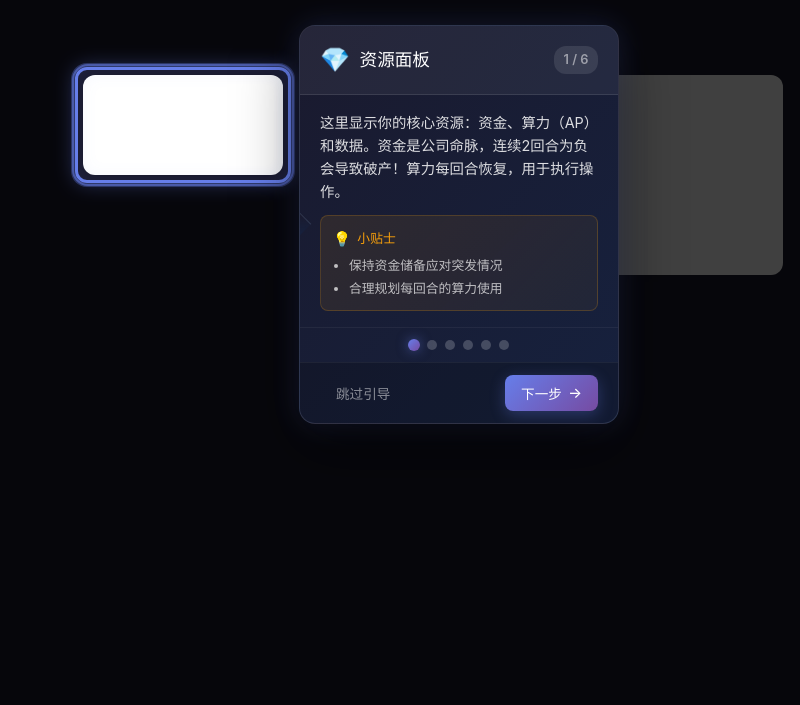
OnboardingGuide 组件单元测试 › 步骤推进功能 › 点击上一步应该回到上一个步骤
The width and height of the screenshot is (800, 705).
//  先推进到第二步
Click the button "下一步 →".
click(552, 393)  # box [505,375,598,411]
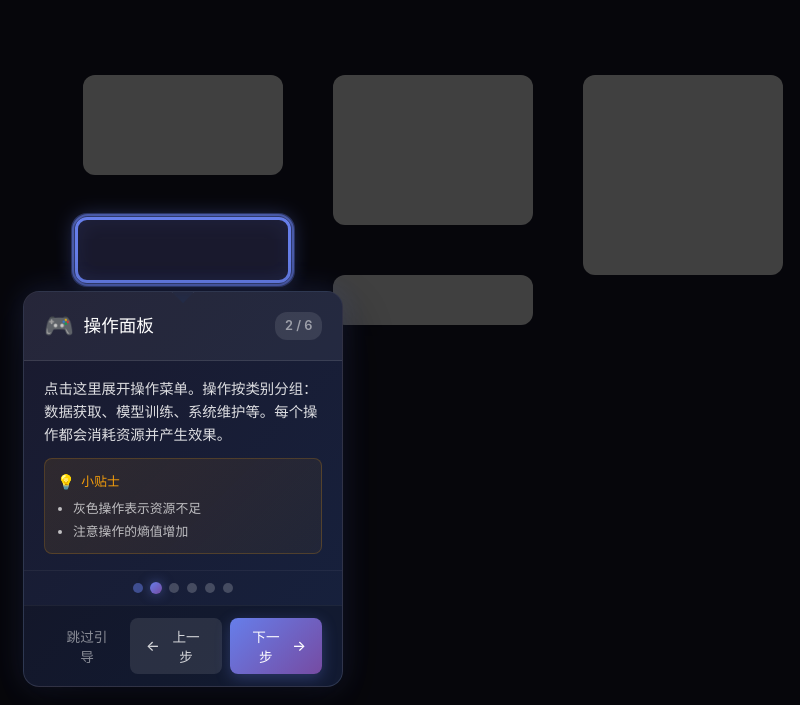
Expected: the heading "操作面板" is shown, [84,313,154,339]
Click the button "← 上一步".
click(176, 646)  # box [130,618,222,674]
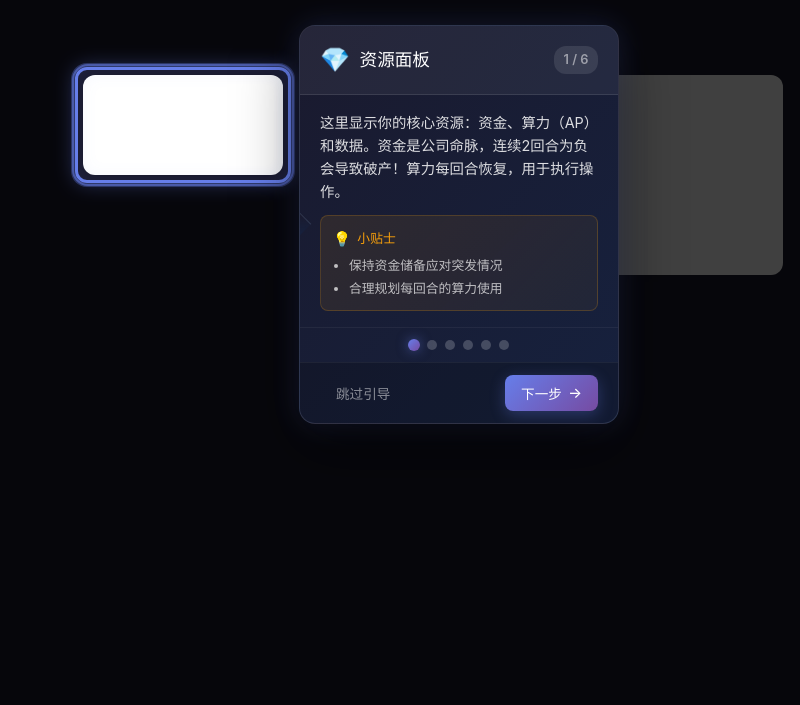
Expected: the heading "资源面板" is shown, [360,47,430,73]
